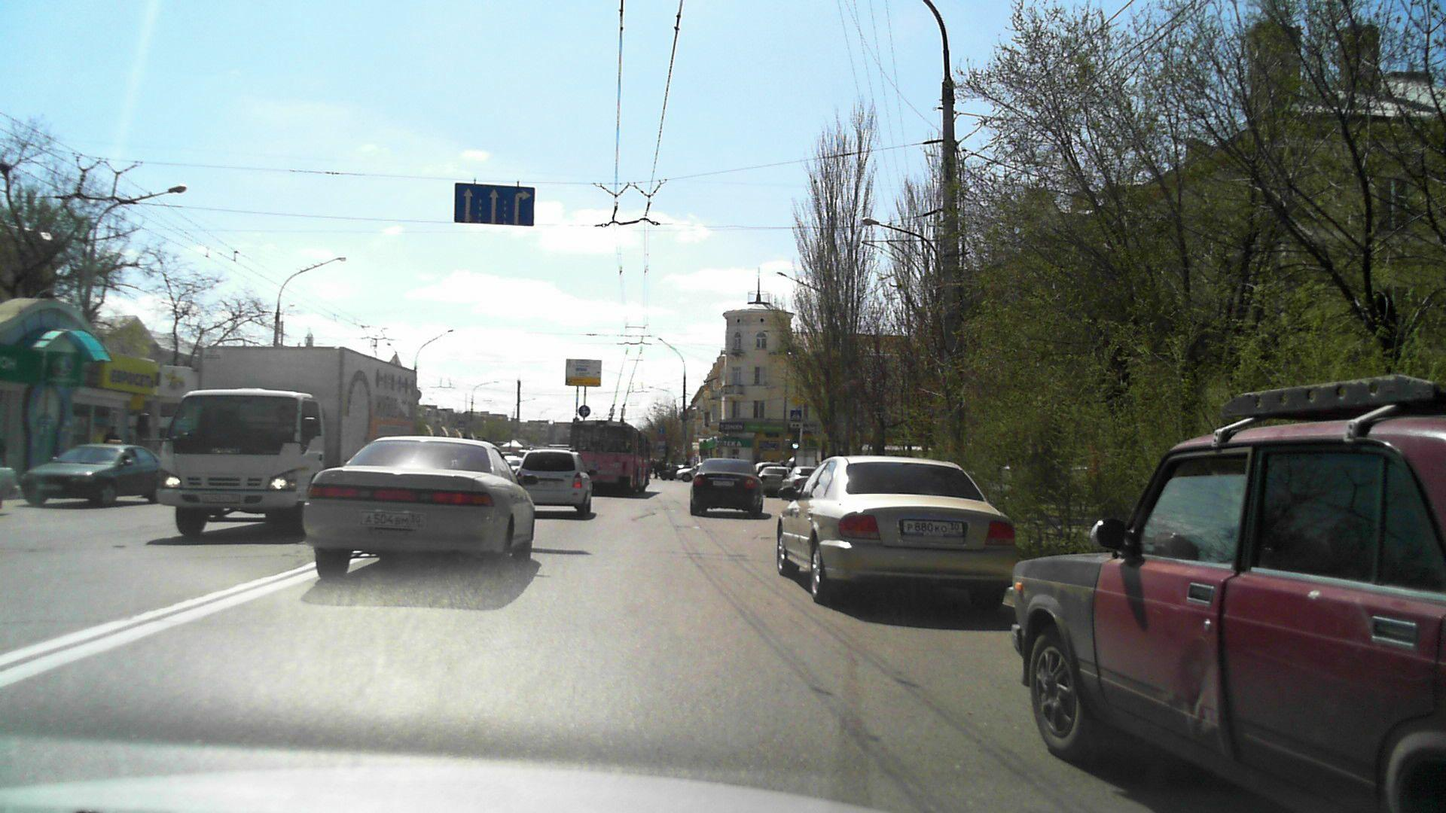road_sign: (455, 183, 533, 226)
